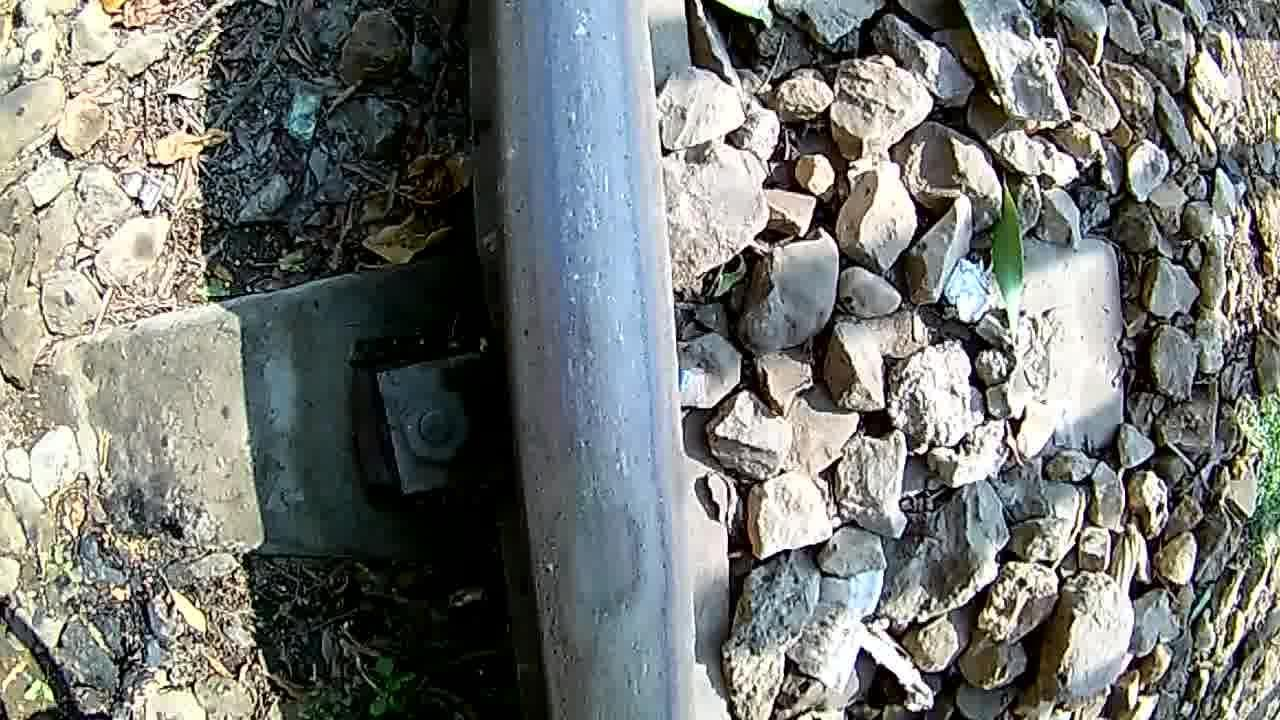crack: (520, 442, 693, 680)
